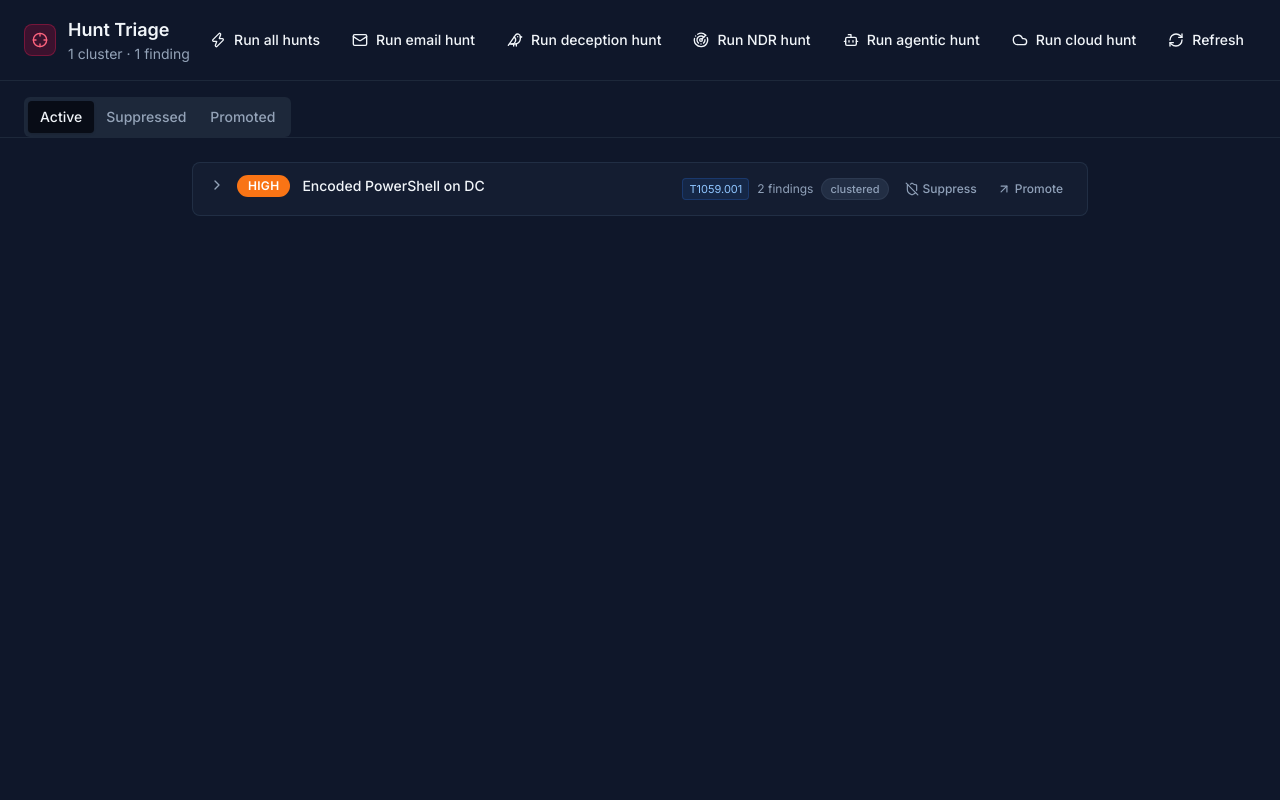
Test case: HuntTriagePage › surfaces 409 over-broad conflict message in the suppress modal
Expected: the element with test id "hunt-cluster-card" is shown, [192,162,1088,216]
Click the button with test id "hunt-cluster-expand" at (217, 185), box [209,177,225,193]
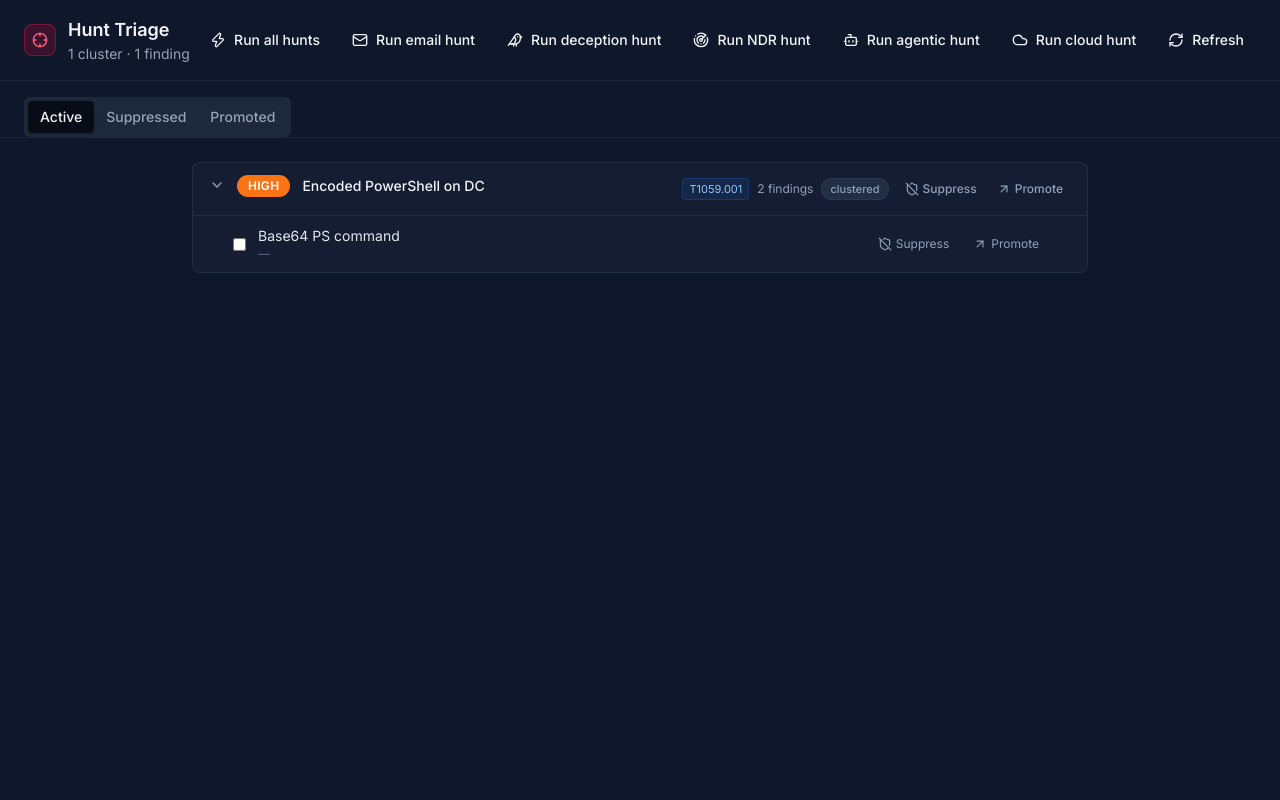
Expected: the button with test id "hunt-finding-suppress" is shown
Click the button with test id "hunt-finding-suppress" at (914, 244), box [870,232,957,256]
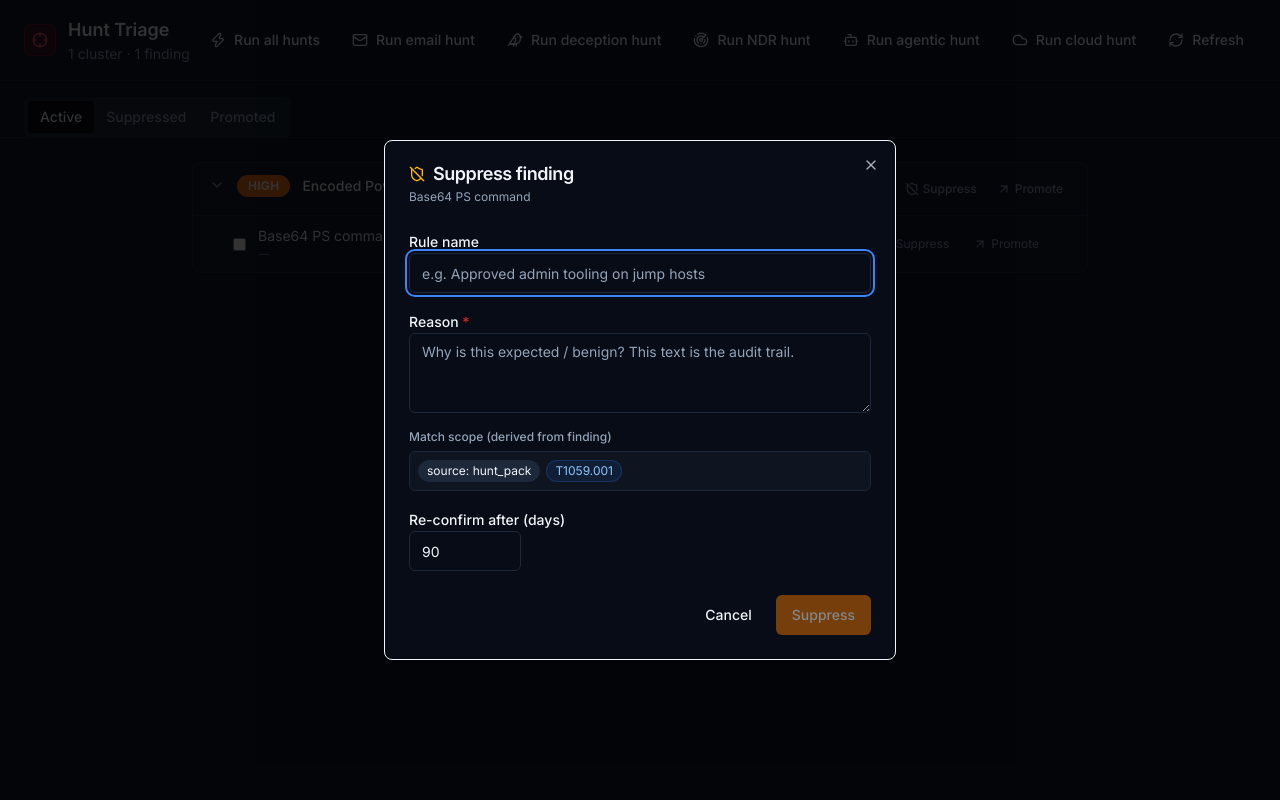
Expected: the dialog with test id "hunt-suppress-modal" is shown, [384,140,896,660]
# Fill both fields
Type "Broad rule" into the field with test id "hunt-suppress-name" at (640, 273), box [409,253,871,293]
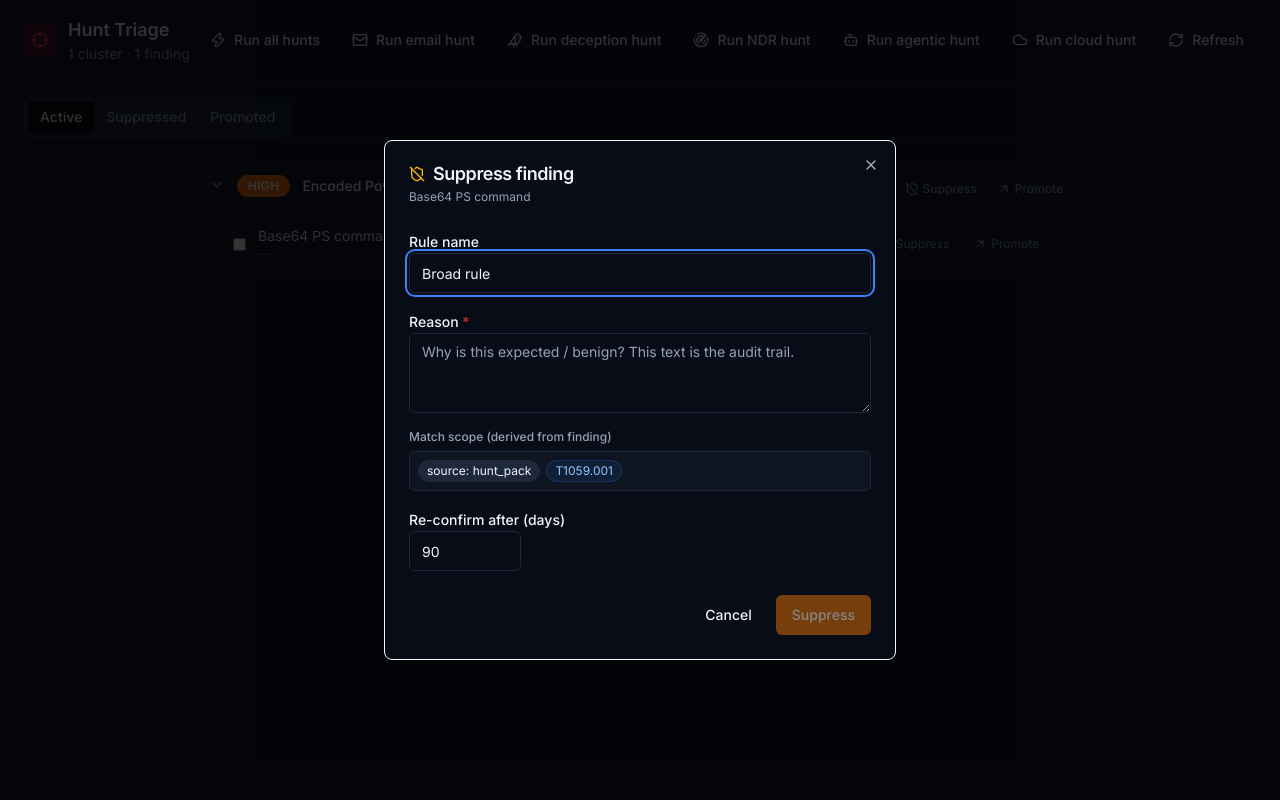
Type "All of these are approved" into the text box with test id "hunt-suppress-reason" at (640, 373), box [409,333,871,413]
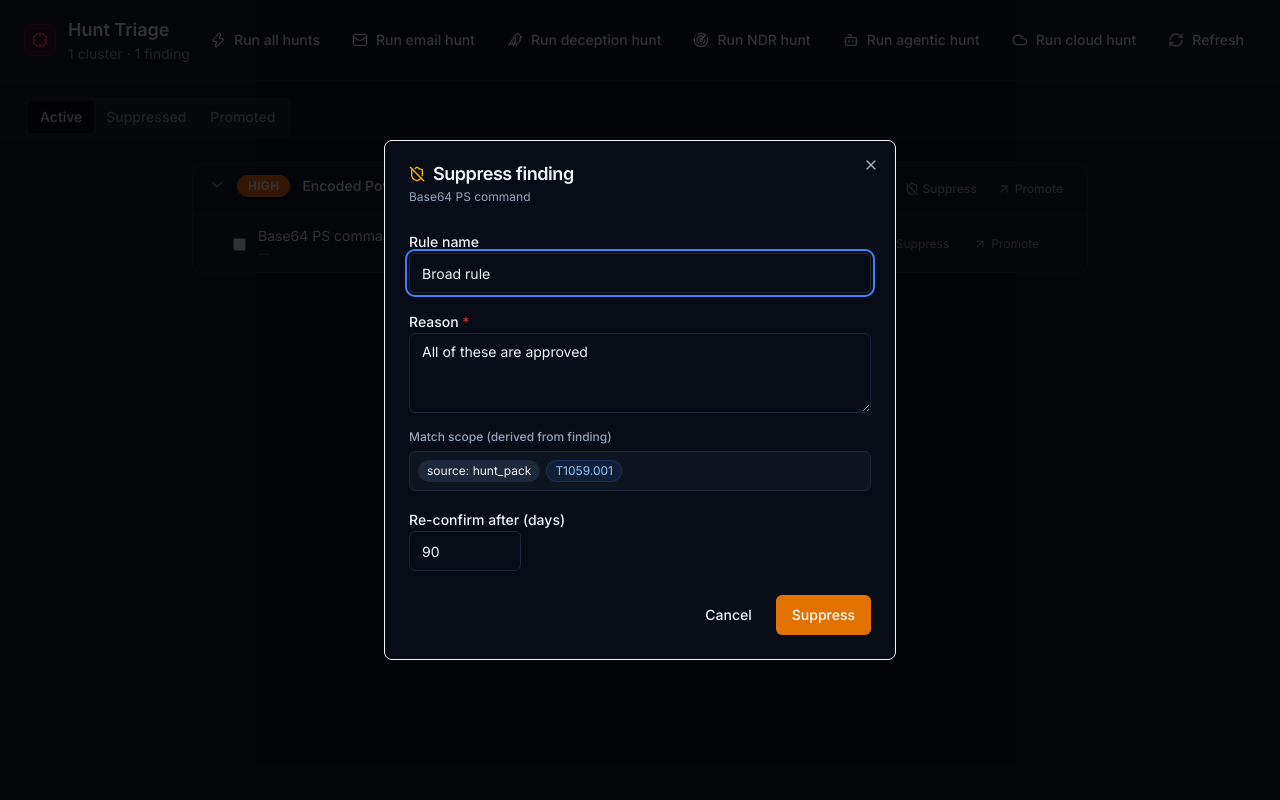
Click the button with test id "hunt-suppress-submit" at (823, 615), box [776,595,871,635]
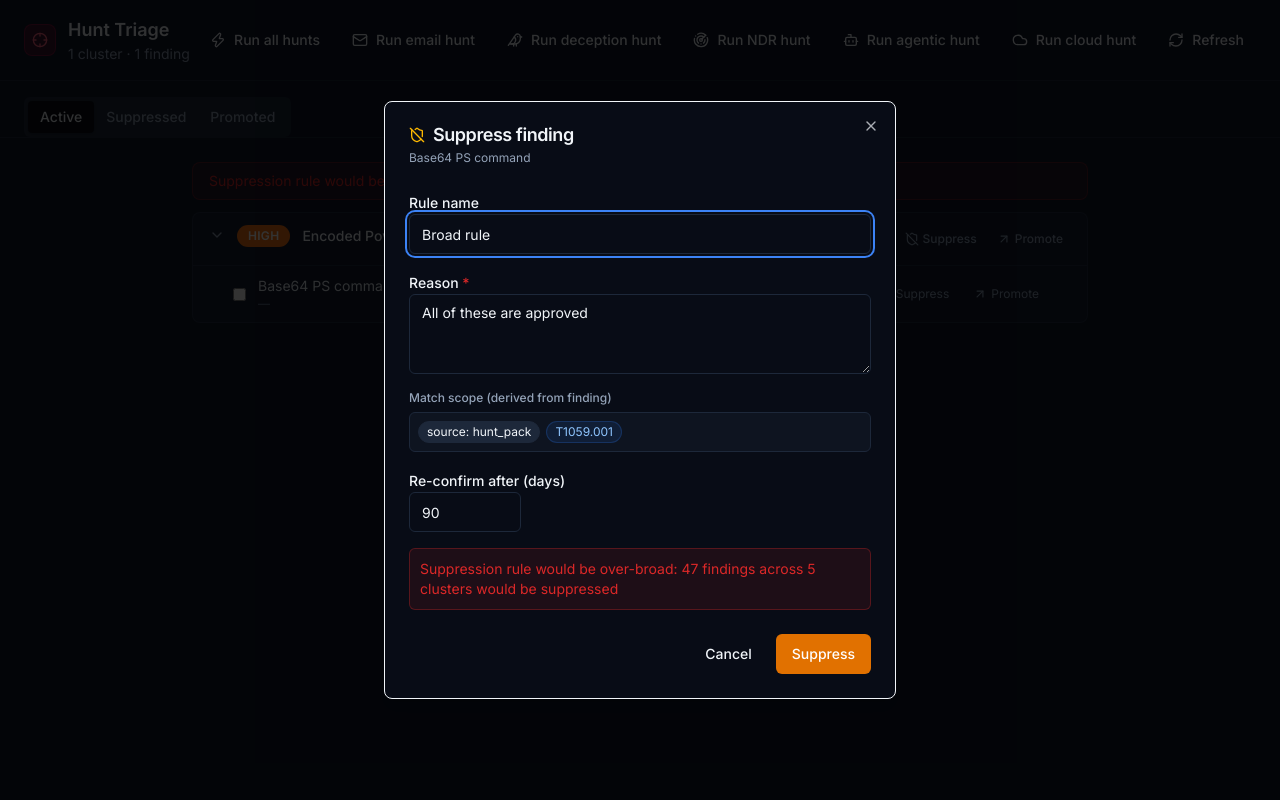
Expected: the message with test id "hunt-suppress-error" shows "over-broad", [420,560,816,597]
